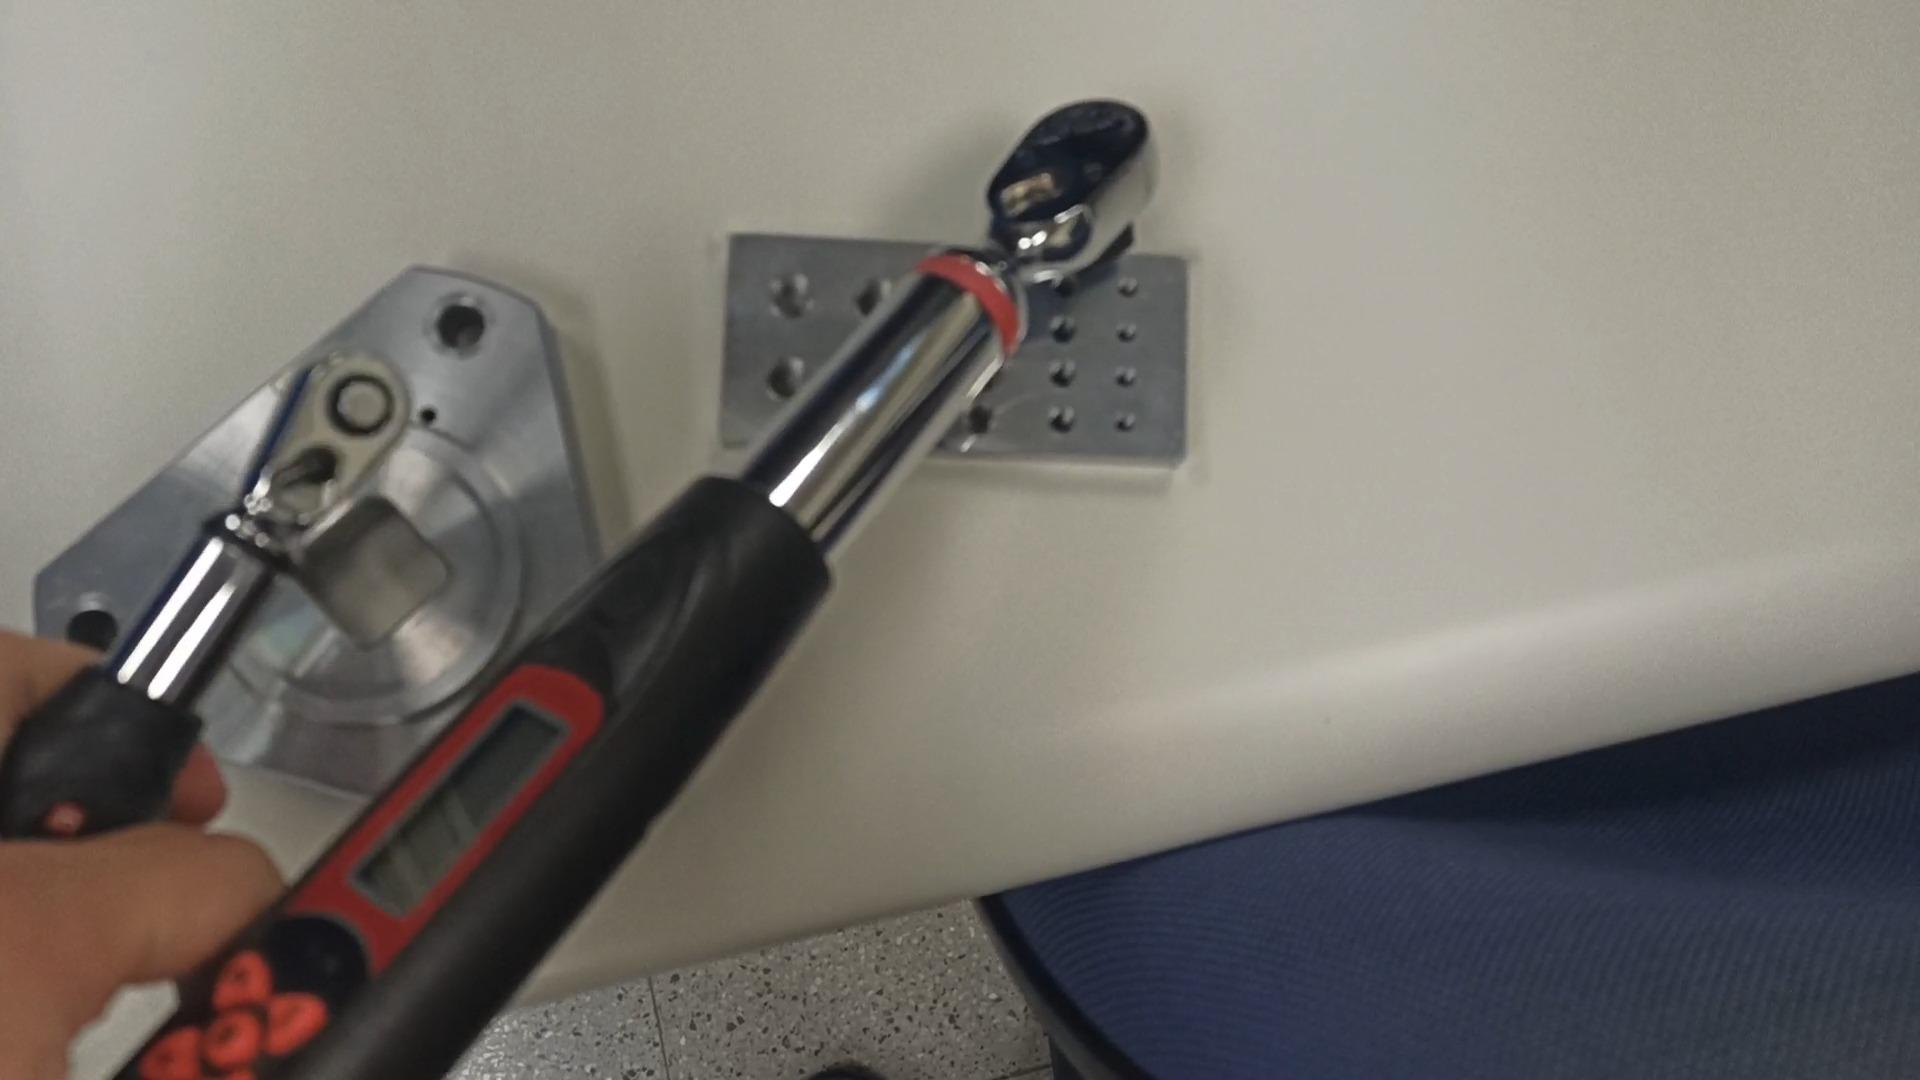Tool: (948, 101, 1158, 300), (241, 355, 414, 536)
hole: (434, 297, 496, 365), (768, 269, 819, 325), (761, 354, 813, 405), (852, 268, 884, 315), (1044, 313, 1080, 350), (1046, 406, 1081, 441), (1043, 362, 1078, 395), (1115, 276, 1145, 306), (1113, 408, 1142, 436), (1114, 368, 1140, 395), (1114, 323, 1140, 350)
